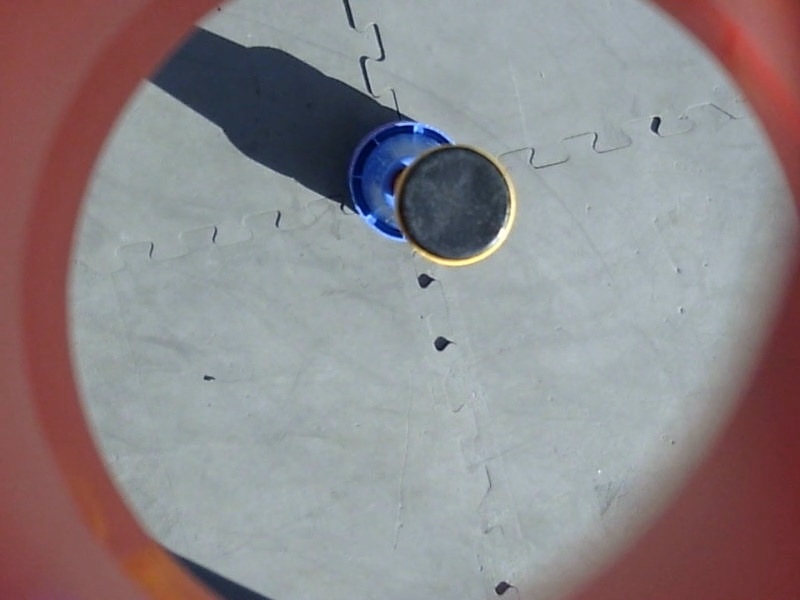tip: (389, 141, 523, 271)
